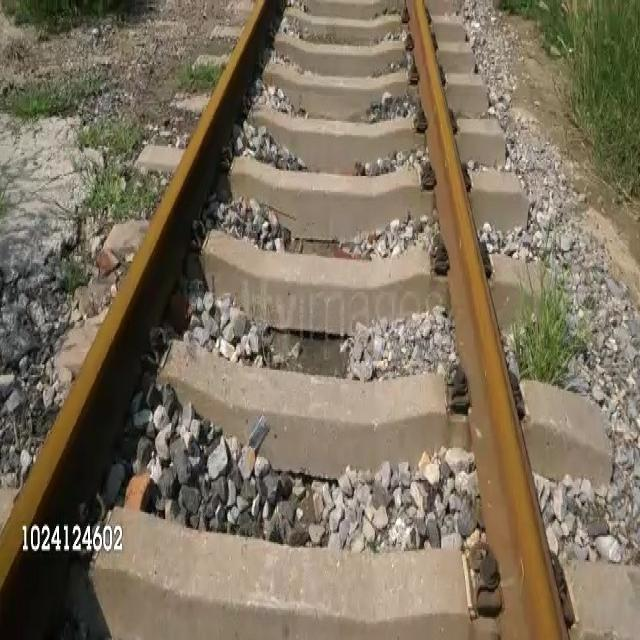Plant: (495, 0, 639, 203), (515, 273, 581, 385), (1, 0, 142, 45), (10, 82, 99, 109), (86, 177, 151, 210), (78, 119, 139, 147), (61, 259, 93, 295), (184, 66, 224, 94)
